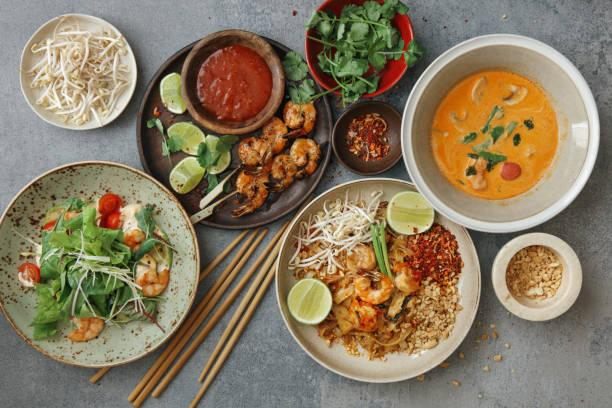Braised Crucian Carp: (276, 177, 477, 383), (0, 161, 195, 369), (402, 33, 596, 234), (137, 31, 324, 229), (16, 13, 135, 130), (305, 0, 412, 101), (490, 232, 581, 320), (331, 100, 404, 174)
